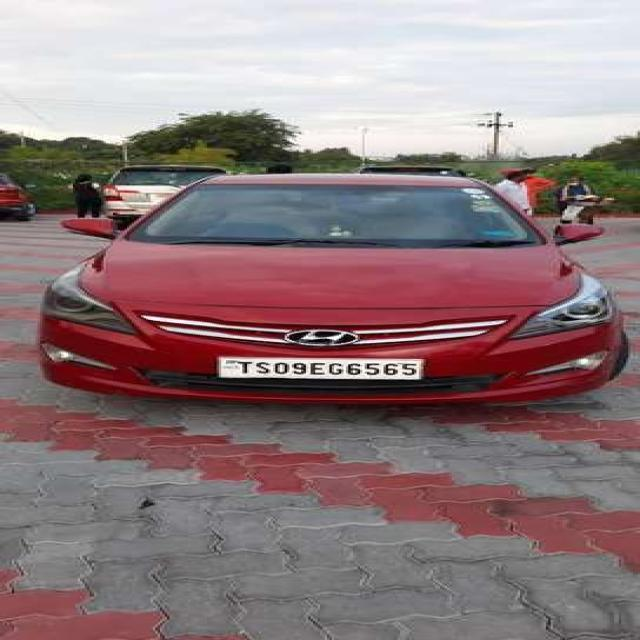licenseplate: (220, 357, 424, 380)
